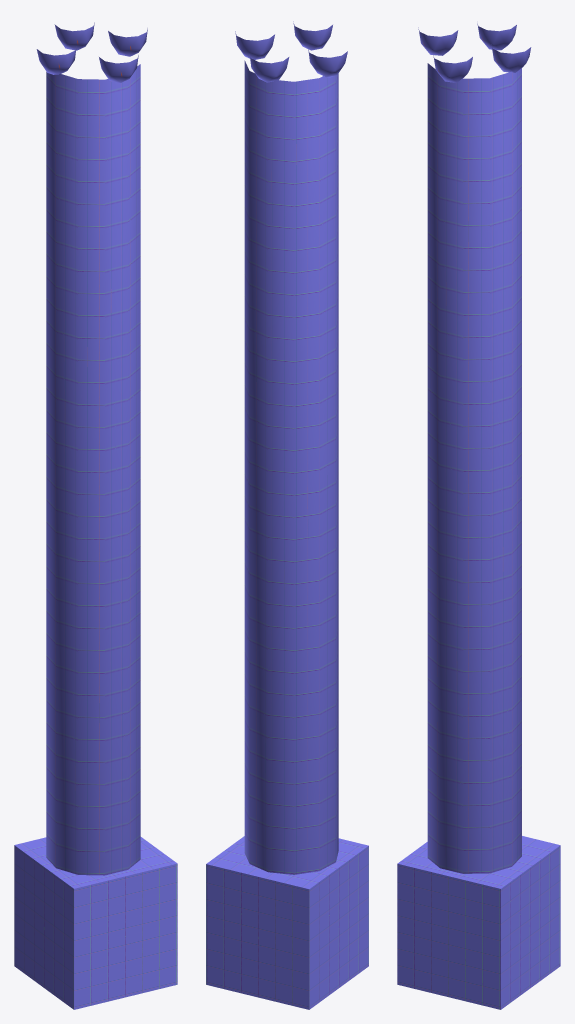
Rendered from lampstand.glb.
The picture shows the model from 3 angles, left to right: view 1: azimuth 30°, elevation 25°; view 2: azimuth 150°, elevation 25°; view 3: azimuth 330°, elevation 25°; orthographic projection.
Parts seen in each view (by area): view 1: gold; view 2: gold; view 3: gold.
Part boxes in pixels (<box>): gold: <box>14,22,177,1009</box>; gold: <box>206,21,368,1009</box>; gold: <box>397,23,560,1009</box>.
Bounding box in the file's own units: 0.1474 × 1.22 × 0.1516.
Materials: 1 (1 with a texture image).
